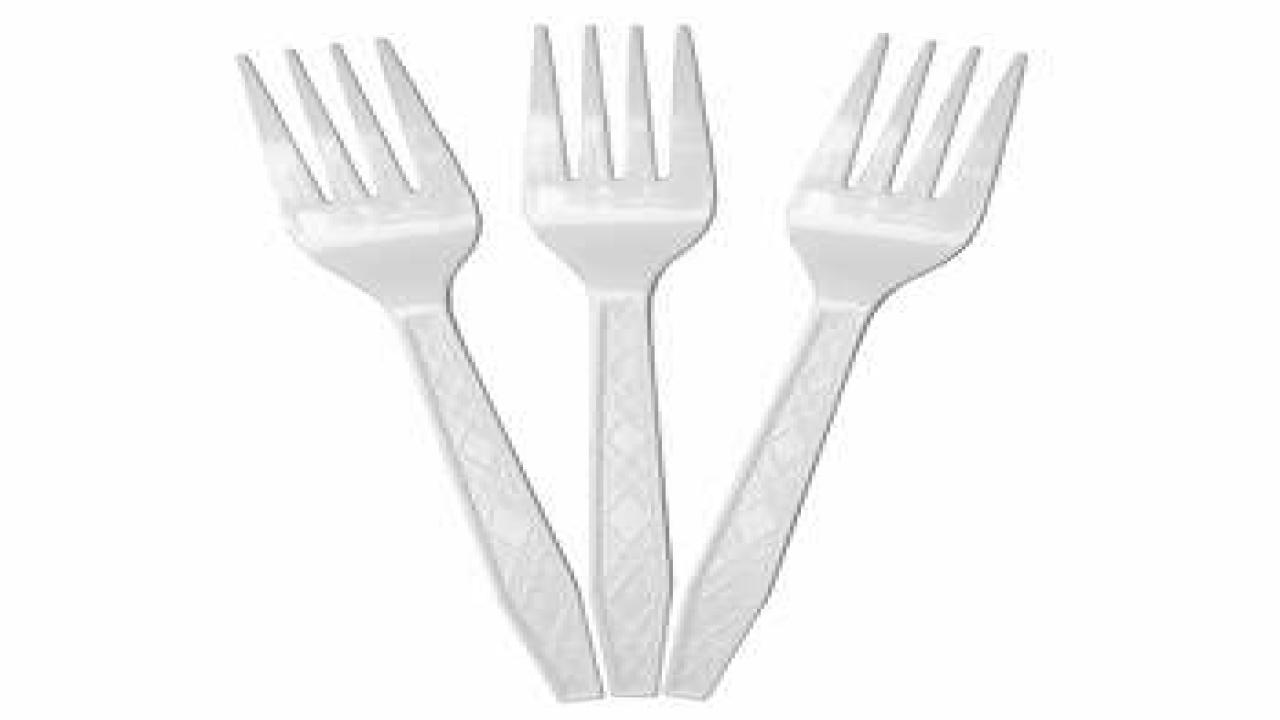fork: (231, 33, 604, 701), (662, 31, 1028, 699), (519, 21, 717, 698)
